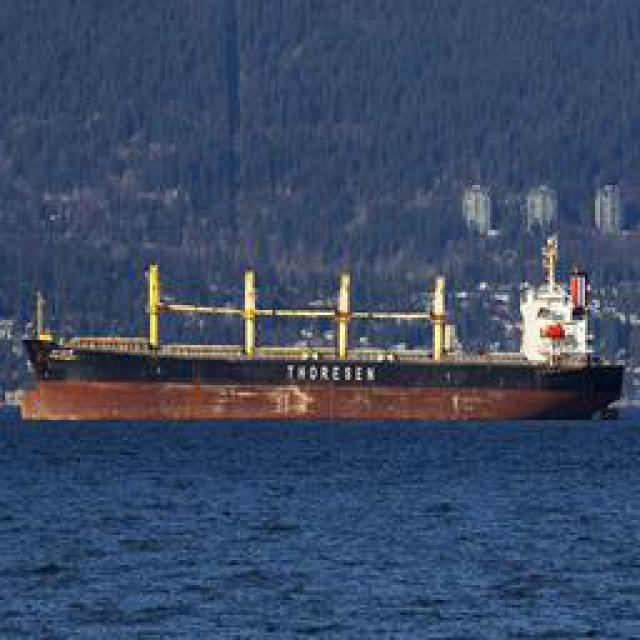Ship: (14, 301, 629, 429)
